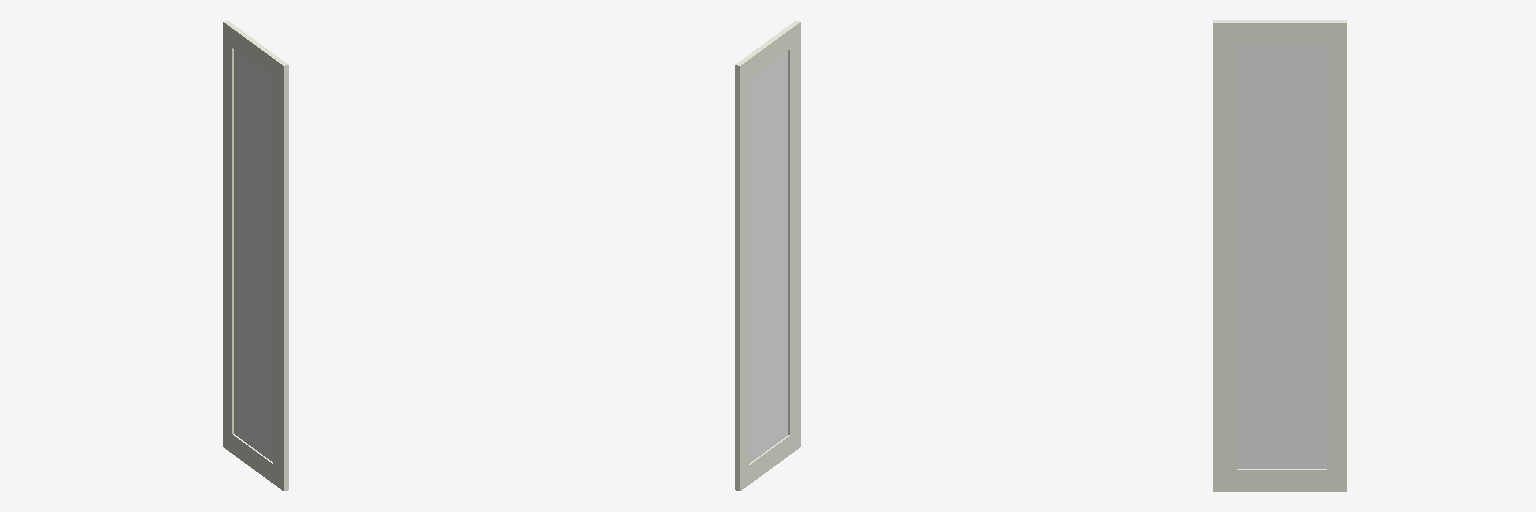
The robot description file, URDF, robot "akiba-door-window_static":
<?xml version="1.0"?>
<robot name="akiba-door-window_static"
       xmlns:xi="http://www.w3.org/2001/XInclude"
       >
  <gazebo>
    <static>true</static>
  </gazebo>
  <link name="AKIBA-DOOR-WINDOW-BODYSET2_link">
    <visual>
      <origin xyz="0 0 0" rpy="0 -0 0"/>
      <geometry>
        <mesh filename="model://akiba-door-window/meshes/AKIBA-DOOR-WINDOW-BODYSET2_link_mesh.dae" scale="1 1 1" />
      </geometry>
    </visual>
    <collision>
      <origin xyz="0 0 0" rpy="0 -0 0"/>
      <geometry>
        <mesh filename="model://akiba-door-window/meshes/AKIBA-DOOR-WINDOW-BODYSET2_link_mesh.dae" scale="1 1 1" />
      </geometry>
    </collision>
    <inertial>
      <mass value="0.001" />
      <origin xyz="0 0 0" rpy="0 -0 0"/>
      <inertia ixx="1e-03" ixy="0" ixz="0" iyy="1e-03" iyz="0" izz="1e-03"/>
    </inertial>
  </link>
  <gazebo reference="AKIBA-DOOR-WINDOW-BODYSET2_link">
    <mu1>0.9</mu1>
    <mu2>0.9</mu2>
  </gazebo>
  <link name="AKIBA-DOOR-WINDOW-BODYSET3_link">
    <visual>
      <origin xyz="-0.015 -0.295 0" rpy="0 -0 0"/>
      <geometry>
        <mesh filename="model://akiba-door-window/meshes/AKIBA-DOOR-WINDOW-BODYSET3_link_mesh.dae" scale="1 1 1" />
      </geometry>
    </visual>
    <collision>
      <origin xyz="-0.015 -0.295 0" rpy="0 -0 0"/>
      <geometry>
        <mesh filename="model://akiba-door-window/meshes/AKIBA-DOOR-WINDOW-BODYSET3_link_mesh.dae" scale="1 1 1" />
      </geometry>
    </collision>
    <inertial>
      <mass value="0.001" />
      <origin xyz="0 0 0" rpy="0 -0 0"/>
      <inertia ixx="1e-03" ixy="0" ixz="0" iyy="1e-03" iyz="0" izz="1e-03"/>
    </inertial>
  </link>
  <gazebo reference="AKIBA-DOOR-WINDOW-BODYSET3_link">
    <mu1>0.9</mu1>
    <mu2>0.9</mu2>
  </gazebo>
  <joint name="DOOR" type="revolute">
    <parent link="AKIBA-DOOR-WINDOW-BODYSET2_link"/>
    <child  link="AKIBA-DOOR-WINDOW-BODYSET3_link"/>
    <origin xyz="-0.015 -0.295 0" rpy="0 -0 0 "/>
    <axis   xyz="0 0 -1"/>
    <limit lower="0" upper="1.5708" effort="100" velocity="0.5" />
    <dynamics damping="0.2" friction="0" />
  </joint>
  <transmission type="pr2_mechanism_model/SimpleTransmission" name="DOOR_trans" >
    <actuator name="DOOR_motor" />
    <joint name="DOOR" />
    <mechanicalReduction>1</mechanicalReduction>
  </transmission>
  <gazebo reference="DOOR">
    <cfmDamping>0.4</cfmDamping>
  </gazebo>
</robot>

--- What the picture shows (computed from the rendered views, not written in the file) ---
The picture shows the robot from 3 angles, left to right: view 1: azimuth 30°, elevation 25°; view 2: azimuth 150°, elevation 25°; view 3: azimuth 270°, elevation 25°; orthographic projection.
Robot: akiba-door-window_static — 2 links, 1 joints (1 revolute); root link AKIBA-DOOR-WINDOW-BODYSET2_link; default pose: all joints at 0.
Links seen in each view (by area): view 1: AKIBA-DOOR-WINDOW-BODYSET3_link; view 2: AKIBA-DOOR-WINDOW-BODYSET3_link; view 3: AKIBA-DOOR-WINDOW-BODYSET3_link.
Boxes of the visible links, x1,y1,x2,y2 form: AKIBA-DOOR-WINDOW-BODYSET3_link: (223,21,288,490); AKIBA-DOOR-WINDOW-BODYSET3_link: (735,21,800,490); AKIBA-DOOR-WINDOW-BODYSET3_link: (1213,20,1346,491).
Size in the robot's own frame: 0.03 by 0.62 by 2.4 metres.
2 mesh visuals loaded from 2 distinct referenced files (2 Collada DAE).